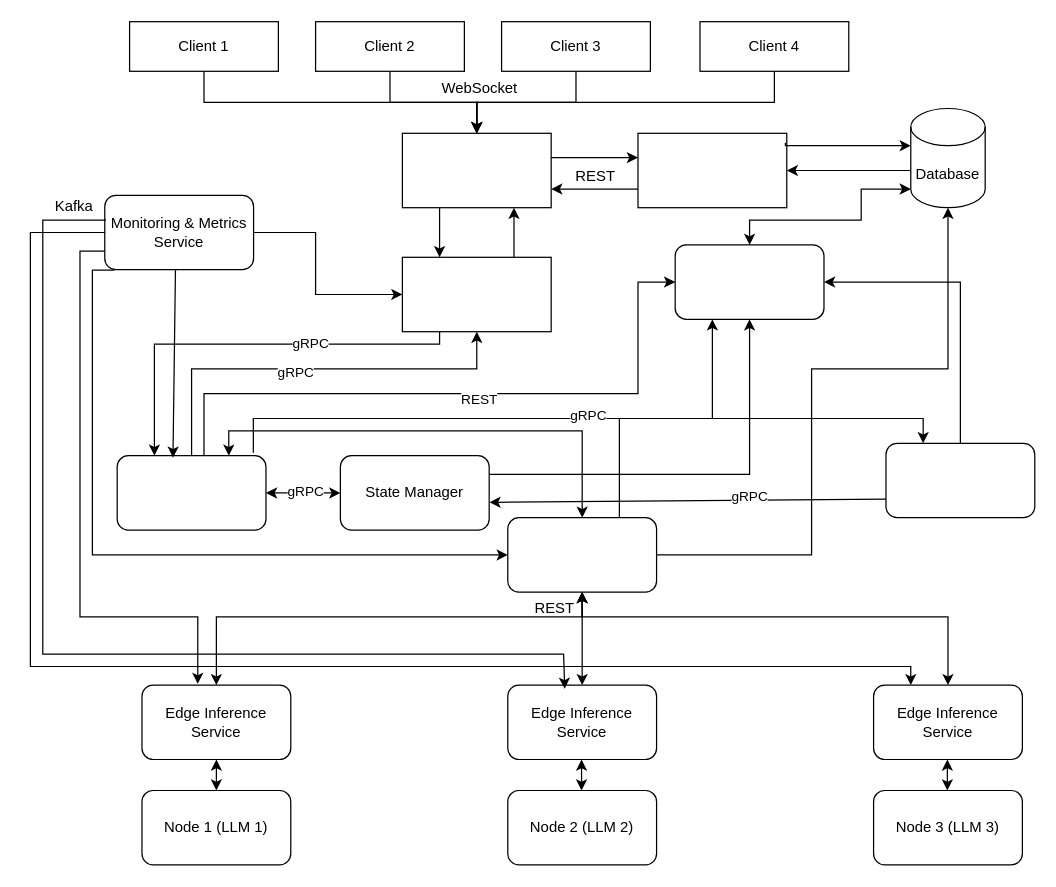
Some shapes in this 1056 by 887 pixel diagram are drawn without their labels. The shapes that lost their labels are listed below. From the top down, each one's centre as x and y in pixels, then its label:
pixel 476 170: Gateway
pixel 712 170: Authentication and Security Microservices
pixel 476 294: Load Balancer
pixel 749 281: Database Services
pixel 191 492: Inference Service
pixel 960 480: Fine Tuning Coordinator
pixel 582 554: Cloud Coordinator
